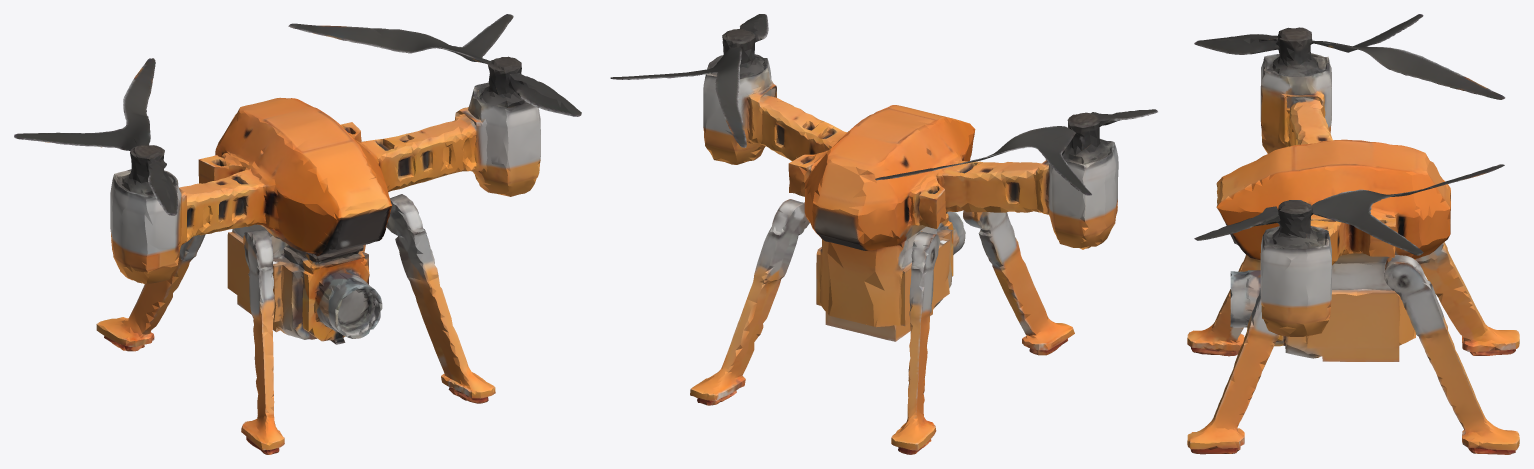
Rendered from worker_drone.glb.
3 renders of one model, left to right at view 1: azimuth 30°, elevation 25°; view 2: azimuth 150°, elevation 25°; view 3: azimuth 270°, elevation 25°, orthographic. The views are drawn at different scales.
Visible parts, largest first — view 1: blazecraft_worker_drone; view 2: blazecraft_worker_drone; view 3: blazecraft_worker_drone.
Boxes of the visible parts, box(x1,y1,x2,y2) form: blazecraft_worker_drone: box(14, 14, 581, 454); blazecraft_worker_drone: box(610, 14, 1157, 454); blazecraft_worker_drone: box(1187, 14, 1519, 454).
Size of the model in its own units: 1.52 by 0.8302 by 0.887.
Materials: 1 (1 with a texture image).
